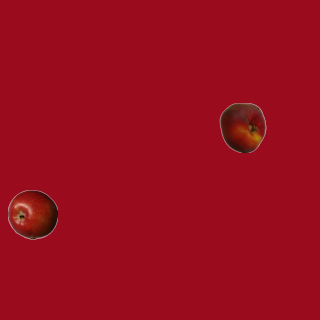Apple Braeburn: (7, 189, 57, 239)
Nectarine Flat: (217, 102, 267, 152)
